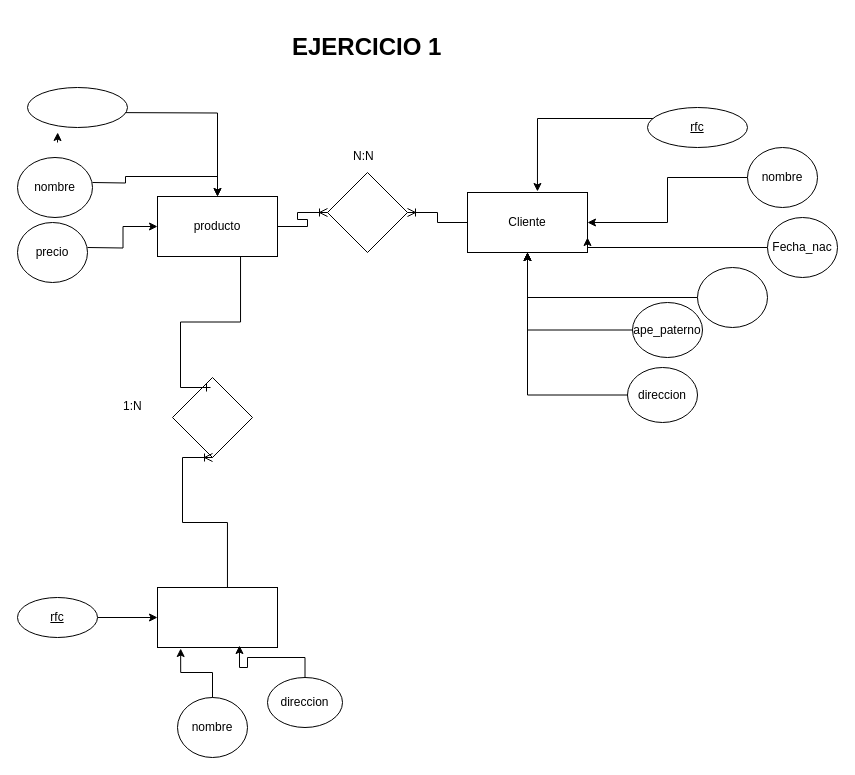
The diagram is 855 pixels wide and 775 high, and some of its shapes have lost their labels. Each missing label, with the centre of its shape:
"ape_materno" goes at (732,297).
"codigo" goes at (77,107).
"compra" goes at (367,212).
"provedor" goes at (217,617).
"suministra" goes at (212,417).
